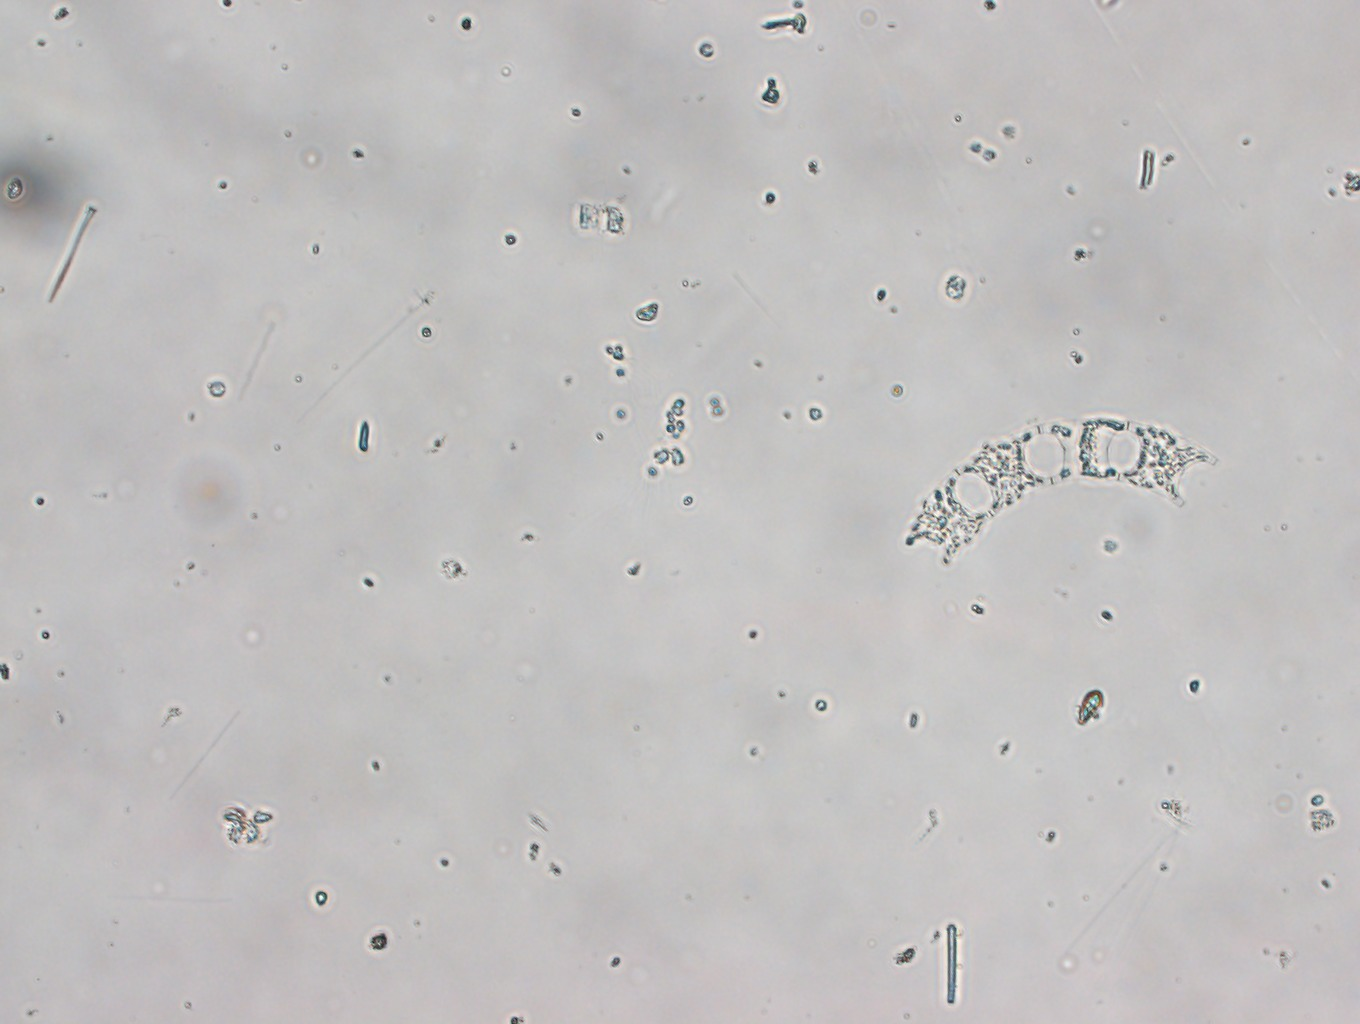eucampia: (904, 413, 1218, 566)
